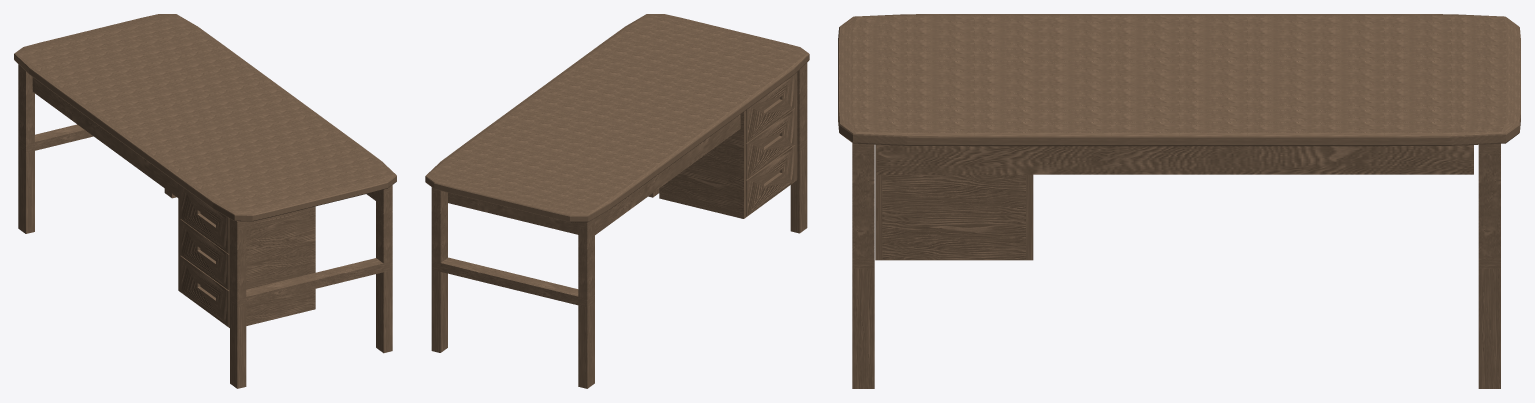
Rendered from desk.glb.
The picture shows the model from 3 angles, left to right: view 1: azimuth 30°, elevation 25°; view 2: azimuth 150°, elevation 25°; view 3: azimuth 270°, elevation 25°; orthographic projection. The views are drawn at different scales.
Visible parts, largest first — view 1: Desk_Plane.005; view 2: Desk_Plane.005; view 3: Desk_Plane.005.
Part boxes in pixels (bbox=[...]): Desk_Plane.005: bbox=[14, 14, 396, 388]; Desk_Plane.005: bbox=[425, 14, 809, 388]; Desk_Plane.005: bbox=[838, 14, 1520, 388].
Bounding box in the file's own units: 4.04 × 3.99 × 9.5.
Materials: 1 (1 with a texture image).
